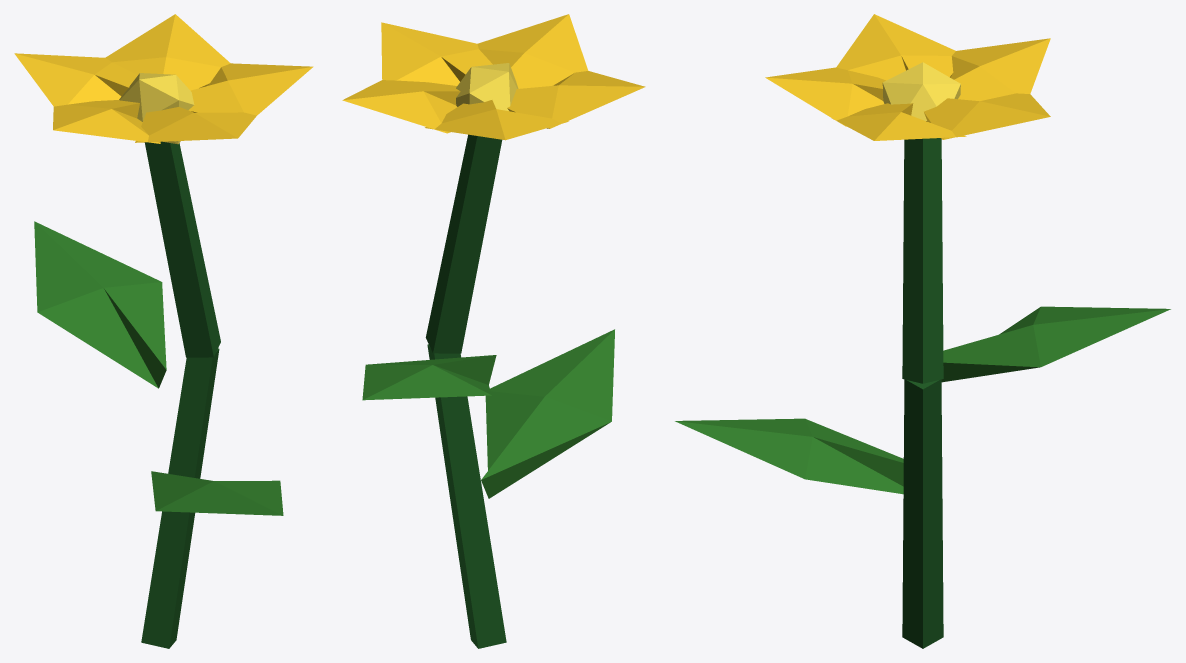
Rendered from flower_yellow.glb.
The picture shows the model from 3 angles, left to right: view 1: azimuth 30°, elevation 25°; view 2: azimuth 150°, elevation 25°; view 3: azimuth 270°, elevation 25°; orthographic projection.
Visible parts, largest first — view 1: flower_yellow, leaf, leaf_dark, flower_center; view 2: flower_yellow, leaf, leaf_dark, flower_center; view 3: leaf_dark, flower_yellow, leaf, flower_center.
Boxes of the visible parts, x1,y1,x2,y2 form: flower_yellow: [14, 14, 313, 143]; leaf: [34, 221, 283, 515]; leaf_dark: [141, 141, 220, 648]; flower_center: [119, 73, 194, 144]; flower_yellow: [342, 14, 645, 140]; leaf: [362, 329, 614, 498]; leaf_dark: [425, 134, 506, 648]; flower_center: [456, 63, 518, 110]; leaf_dark: [902, 138, 943, 648]; flower_yellow: [765, 14, 1050, 140]; leaf: [675, 306, 1170, 494]; flower_center: [882, 62, 960, 121].
Bounding box in the file's own units: 0.2919 × 0.609 × 0.483.
